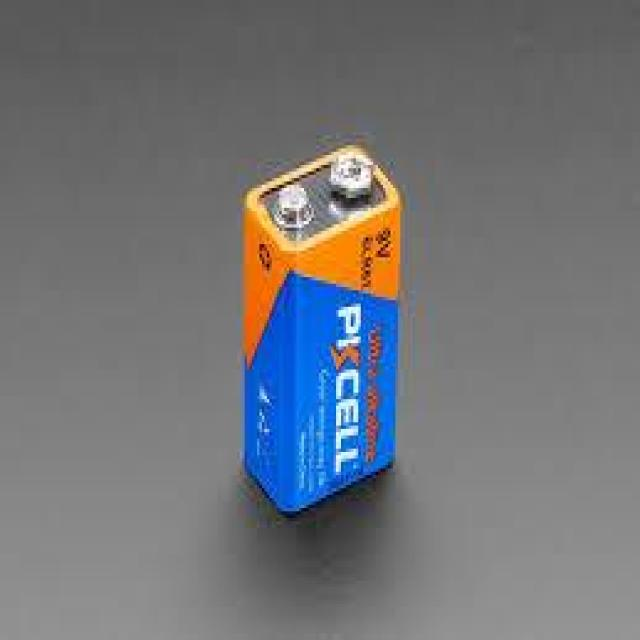9V: (235, 123, 408, 532)
